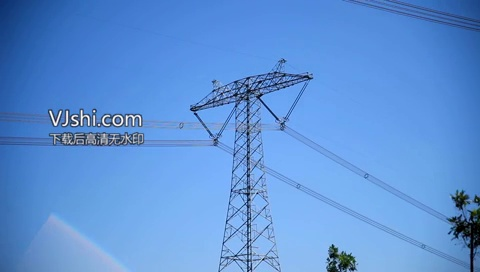tower_body: (182, 53, 317, 271)
tower_foot: (218, 210, 282, 270)
tower_head: (187, 56, 312, 113)
